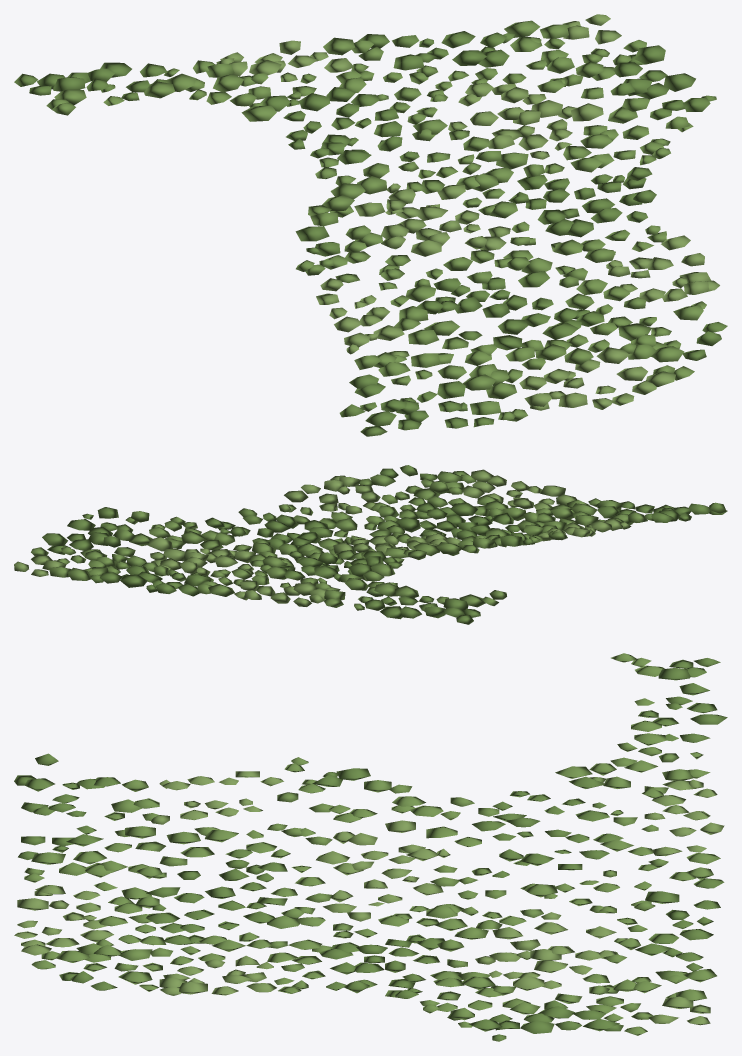
Rendered from canopy-1--5-0.glb.
3 views of the same model, one above another, from view 1: azimuth 30°, elevation 25°; view 2: azimuth 150°, elevation 25°; view 3: azimuth 270°, elevation 25° (orthographic). The views are drawn at different scales.
Bounding box in the file's own units: 510 × 122 × 515.
1 material, 1 textured.
